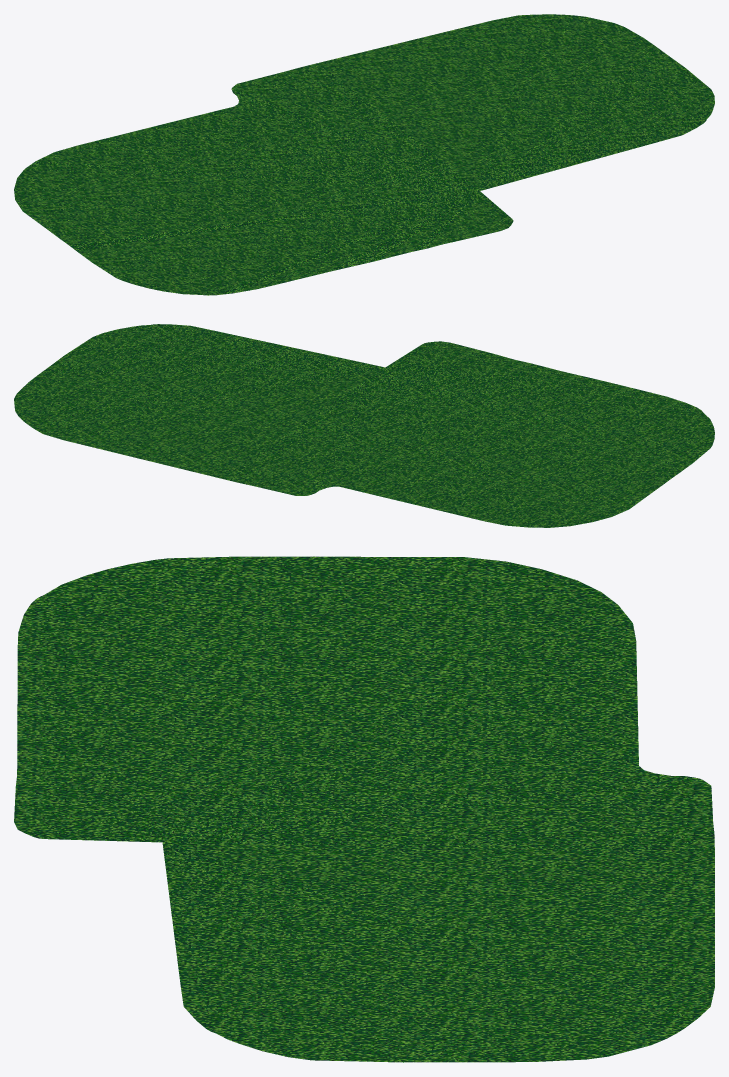
Rendered from planoShag.fbx.
3 views of the same model, one above another, from view 1: azimuth 30°, elevation 25°; view 2: azimuth 150°, elevation 25°; view 3: azimuth 270°, elevation 25° (orthographic). The views are drawn at different scales.
Parts seen in each view (by area): view 1: Cube.003; view 2: Cube.003; view 3: Cube.003.
Boxes of the visible parts, x1,y1,x2,y2 form: Cube.003: (14, 14, 714, 295); Cube.003: (14, 324, 714, 527); Cube.003: (14, 556, 714, 1062).
Bounding box in the file's own units: 3016 × 3.27 × 1766.
1 material, 1 textured.
